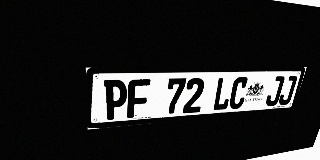2: (183, 78, 205, 113)
7: (164, 78, 187, 115)
C: (228, 77, 249, 110)
F: (127, 79, 150, 118)
J: (264, 76, 285, 106), (277, 76, 298, 105)
L: (212, 77, 234, 111)
P: (104, 79, 128, 120)
